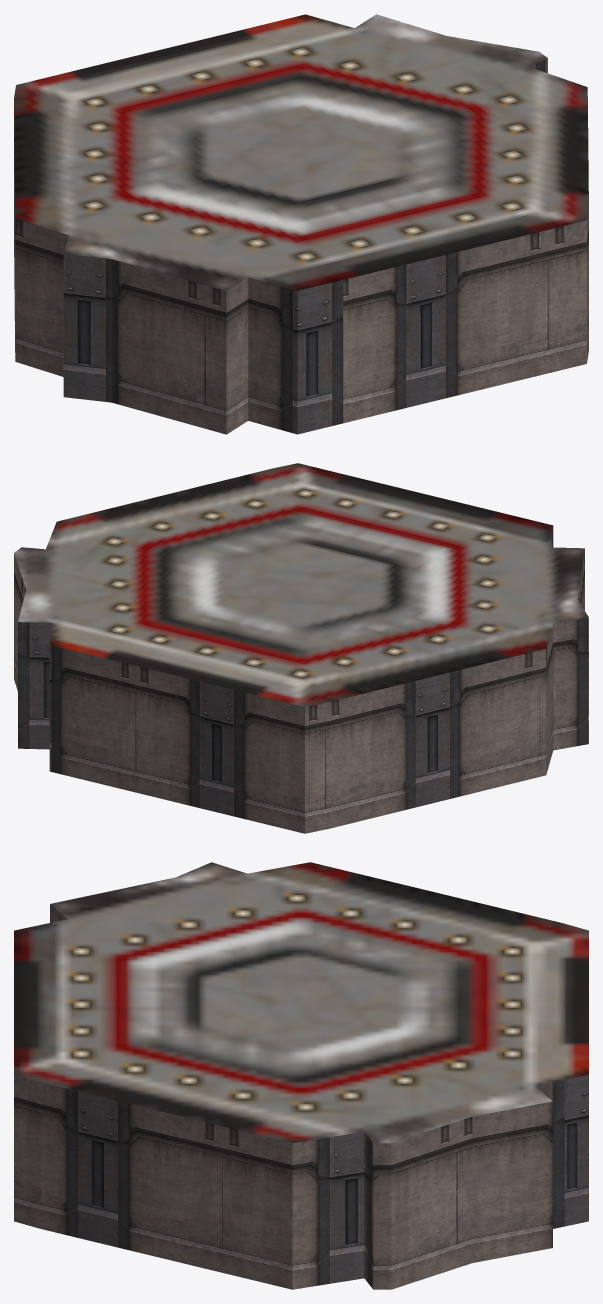
The model's file is bsealed_hard_18.glb.
The picture shows the model from 3 angles, top to bottom: view 1: azimuth 30°, elevation 25°; view 2: azimuth 150°, elevation 25°; view 3: azimuth 270°, elevation 25°; orthographic projection. The views are drawn at different scales.
Parts seen in each view (by area): view 1: buildings/saxarba/bsealed_hard/bsealed_hard_18; view 2: buildings/saxarba/bsealed_hard/bsealed_hard_18; view 3: buildings/saxarba/bsealed_hard/bsealed_hard_18.
Boxes of the visible parts, x1,y1,x2,y2 form: buildings/saxarba/bsealed_hard/bsealed_hard_18: (14, 14, 588, 434); buildings/saxarba/bsealed_hard/bsealed_hard_18: (14, 463, 588, 833); buildings/saxarba/bsealed_hard/bsealed_hard_18: (14, 862, 588, 1289).
Bounding box in the file's own units: 74 × 18 × 64.
